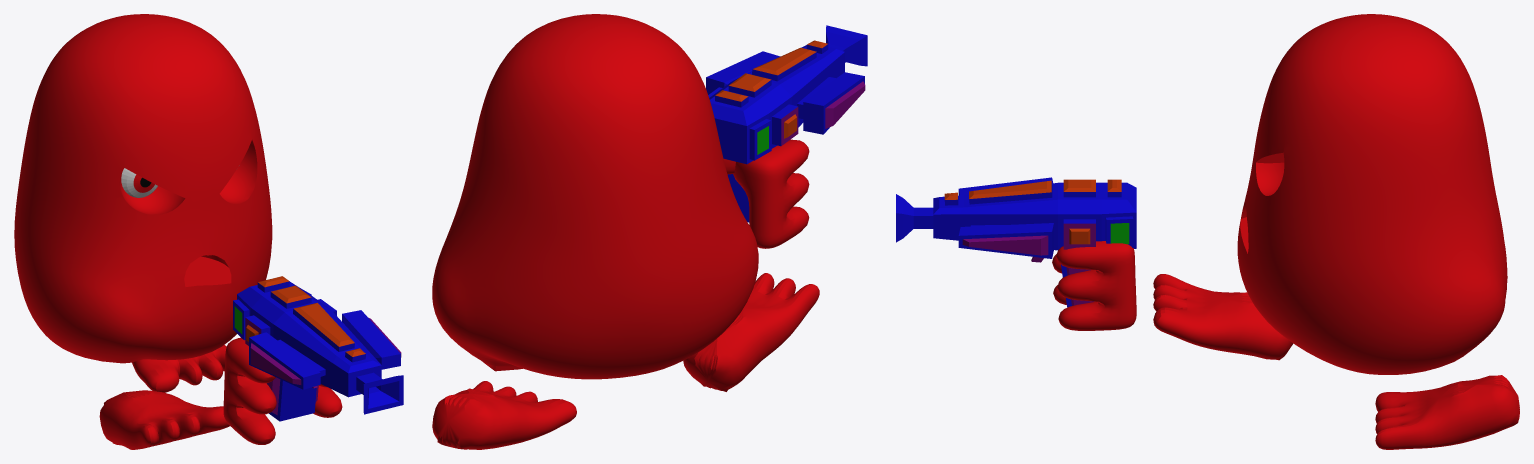
File: enemy1_anim.obj
3 views of the same model, side by side, from view 1: azimuth 30°, elevation 25°; view 2: azimuth 150°, elevation 25°; view 3: azimuth 270°, elevation 25° (orthographic). The views are drawn at different scales.
Visible parts, largest first — view 1: base, blaster, legs, hands, eyes; view 2: base, blaster, legs, hands; view 3: base, legs, blaster, hands.
Part boxes in pixels (x1=…): base: x1=14, y1=14, x2=272, y2=363; blaster: x1=233, y1=276, x2=403, y2=421; legs: x1=99, y1=345, x2=229, y2=449; hands: x1=223, y1=337, x2=342, y2=444; eyes: x1=121, y1=165, x2=239, y2=197; base: x1=432, y1=14, x2=758, y2=379; blaster: x1=706, y1=25, x2=867, y2=222; legs: x1=432, y1=273, x2=819, y2=449; hands: x1=723, y1=139, x2=809, y2=248; base: x1=1237, y1=14, x2=1507, y2=374; legs: x1=1153, y1=274, x2=1519, y2=449; blaster: x1=896, y1=177, x2=1136, y2=307; hands: x1=1052, y1=241, x2=1136, y2=330.
Size of the model in its own units: 1.45 by 2.2 by 3.31.
